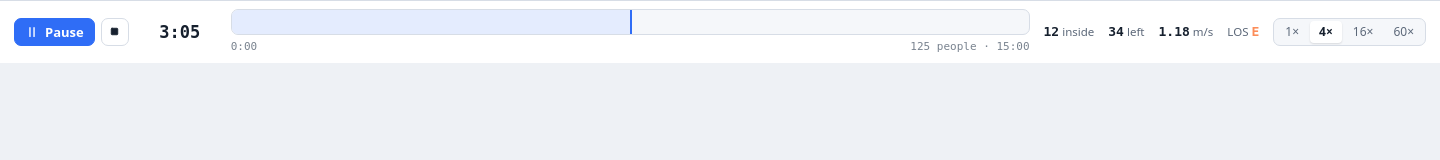
Test: starting and stopping a run › empties the readout when the run is stopped
This screenshot has width=1440, height=160.
expect the text with class "clock" reads "3:05": met, box x1=159 y1=22 x2=200 y2=42
What coordinates should you click on to do the following:
click the button named "Stop"
I would click on:
 (115, 32)
Its box is x1=101 y1=18 x2=129 y2=46.
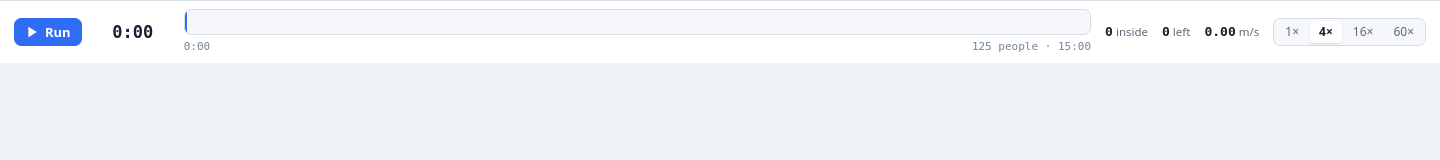
expect the text with class "clock" reads "0:00": met, box x1=112 y1=22 x2=153 y2=42
expect the element with class "live-stats" shows "0 inside": met, box x1=1105 y1=22 x2=1259 y2=41
